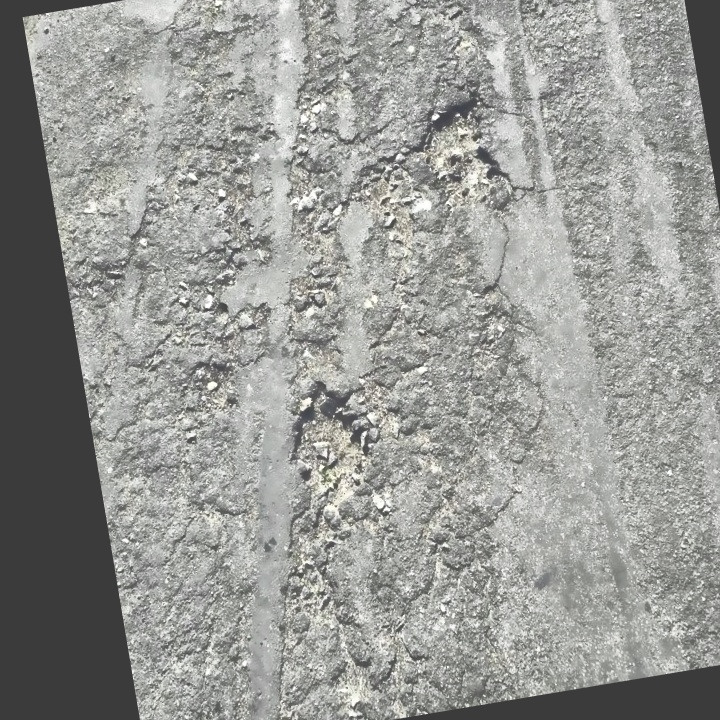pothole: (277, 371, 379, 508), (411, 86, 512, 214)
